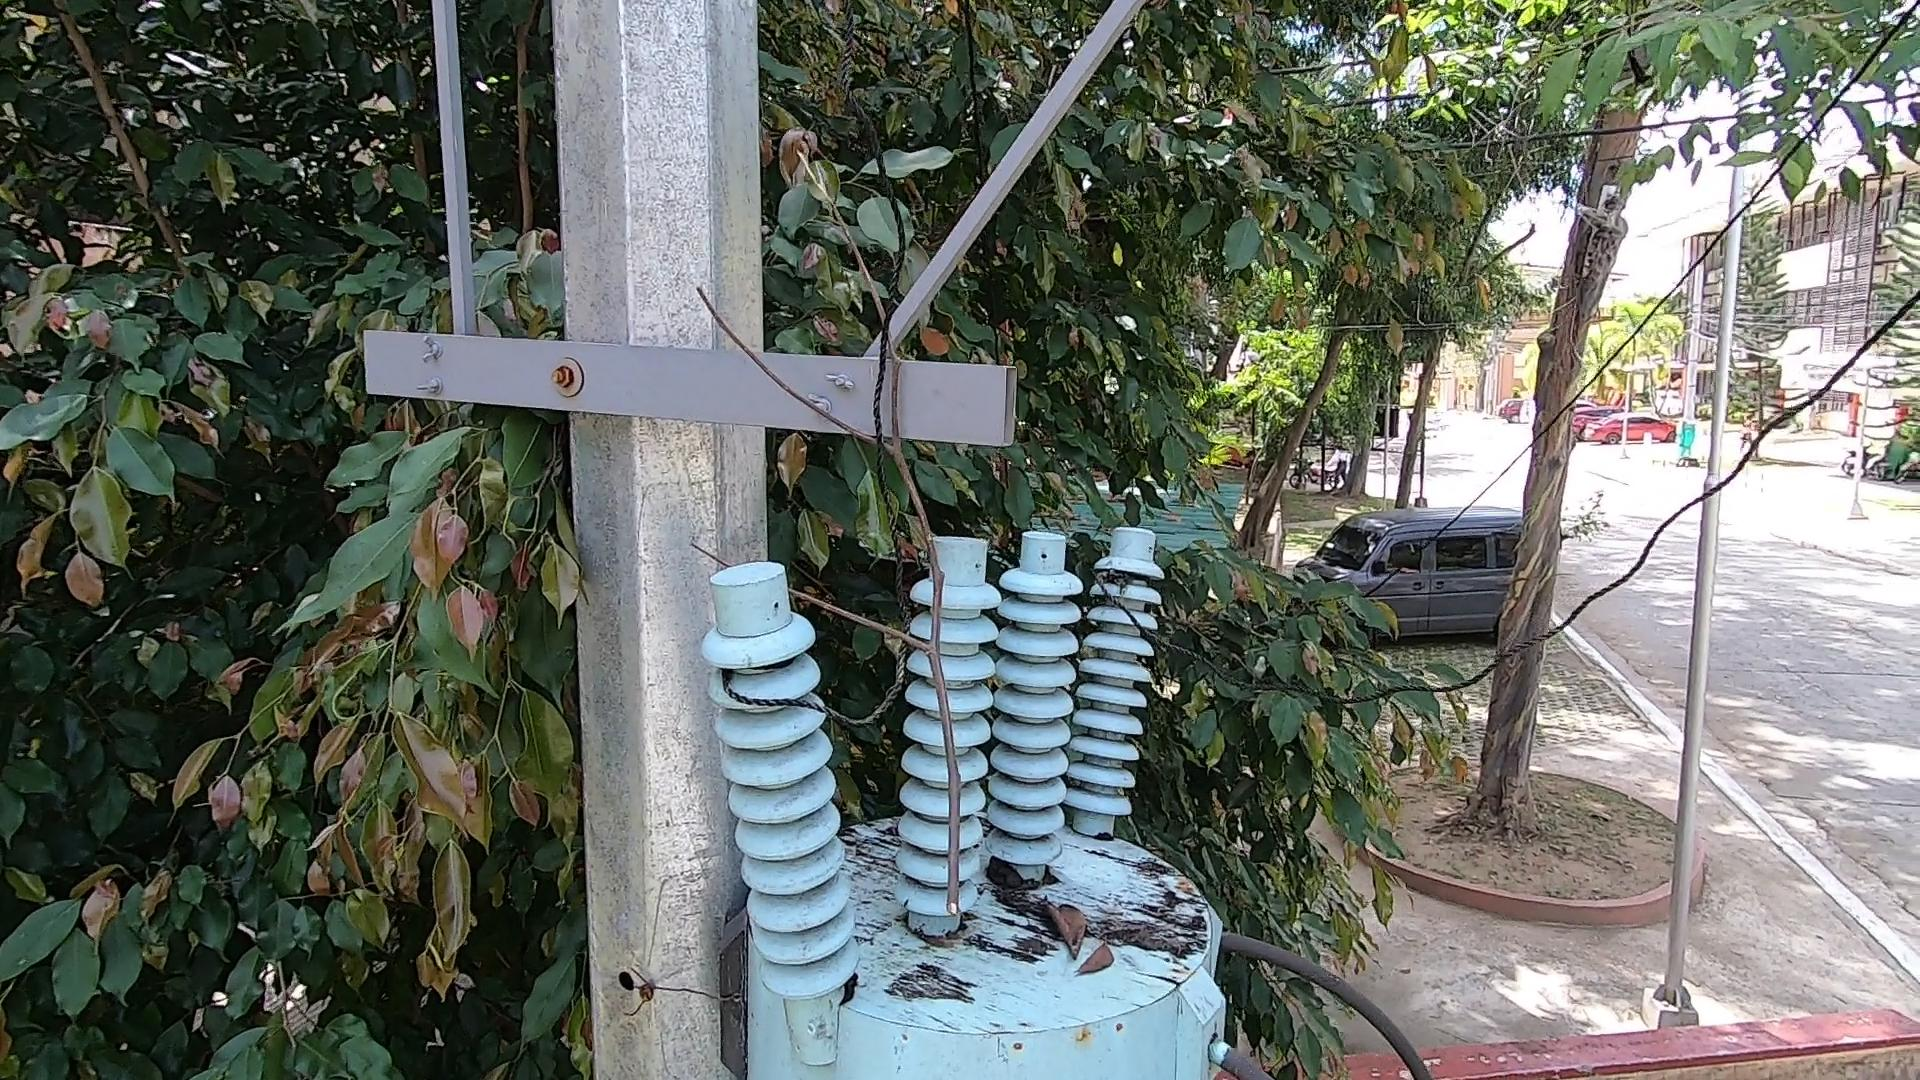leaf: (1038, 889, 1097, 949), (988, 855, 1038, 905), (1076, 945, 1133, 986)
tree branch: (676, 156, 1029, 919)
